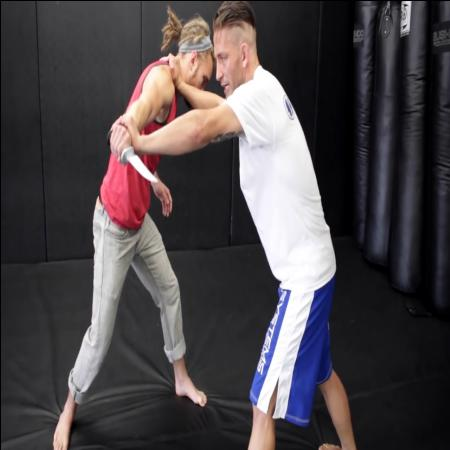long weapon: (104, 124, 162, 188)
